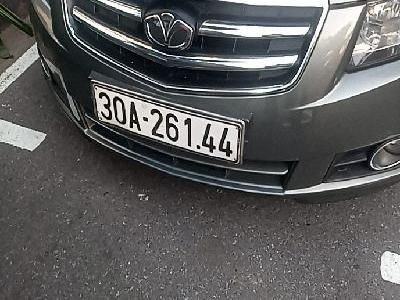number: (88, 80, 242, 167)
